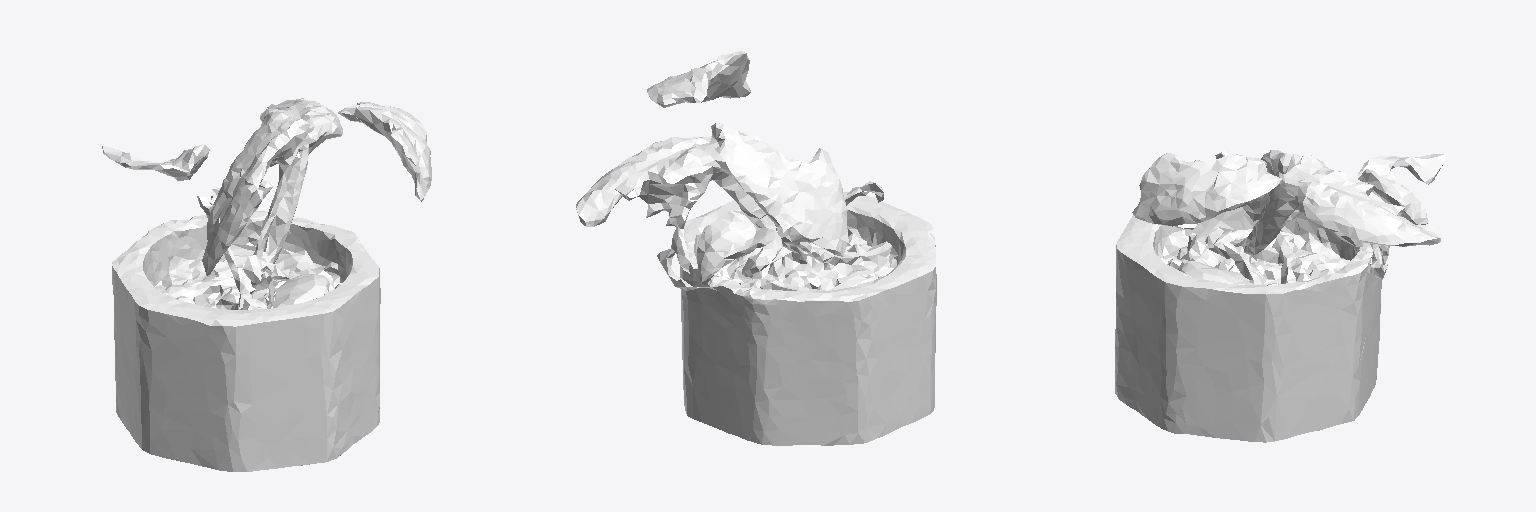
File: MONSTERA_SMALL_5K.obj
3 views of the same model, side by side, from view 1: azimuth 30°, elevation 25°; view 2: azimuth 150°, elevation 25°; view 3: azimuth 270°, elevation 25° (orthographic).
Visible parts, largest first — view 1: MONSTERA_SMALL_5K; view 2: MONSTERA_SMALL_5K; view 3: MONSTERA_SMALL_5K.
Part boxes in pixels (left/top/right/bottom): MONSTERA_SMALL_5K: left=102, top=98, right=431, bottom=471; MONSTERA_SMALL_5K: left=576, top=51, right=936, bottom=445; MONSTERA_SMALL_5K: left=1115, top=150, right=1444, bottom=442.
Bounding box in the file's own units: 0.1597 × 0.1557 × 0.1619.